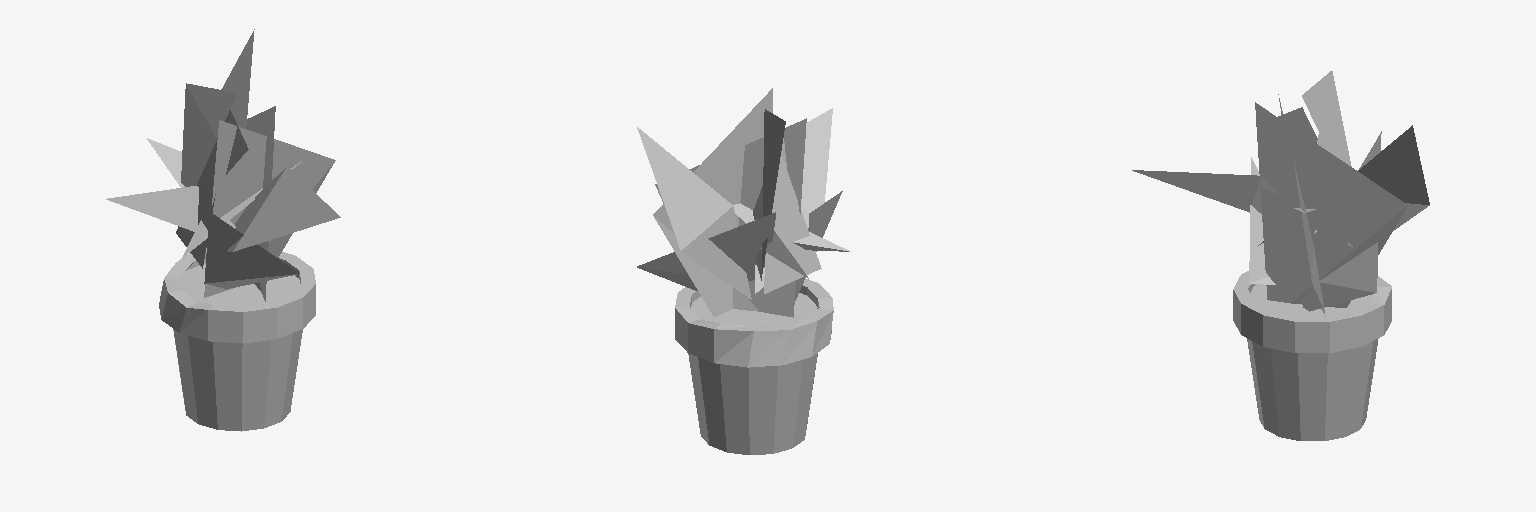
File: plant.obj
3 views of the same model, side by side, from view 1: azimuth 30°, elevation 25°; view 2: azimuth 150°, elevation 25°; view 3: azimuth 270°, elevation 25° (orthographic).
Parts seen in each view (by area): view 1: plant; view 2: plant; view 3: plant.
Boxes of the visible parts, box(x1,y1,x2,y2) form: plant: box(106, 29, 340, 431); plant: box(637, 88, 850, 454); plant: box(1132, 71, 1429, 440).
Bounding box in the file's own units: 0.738 × 1.2 × 0.9948.